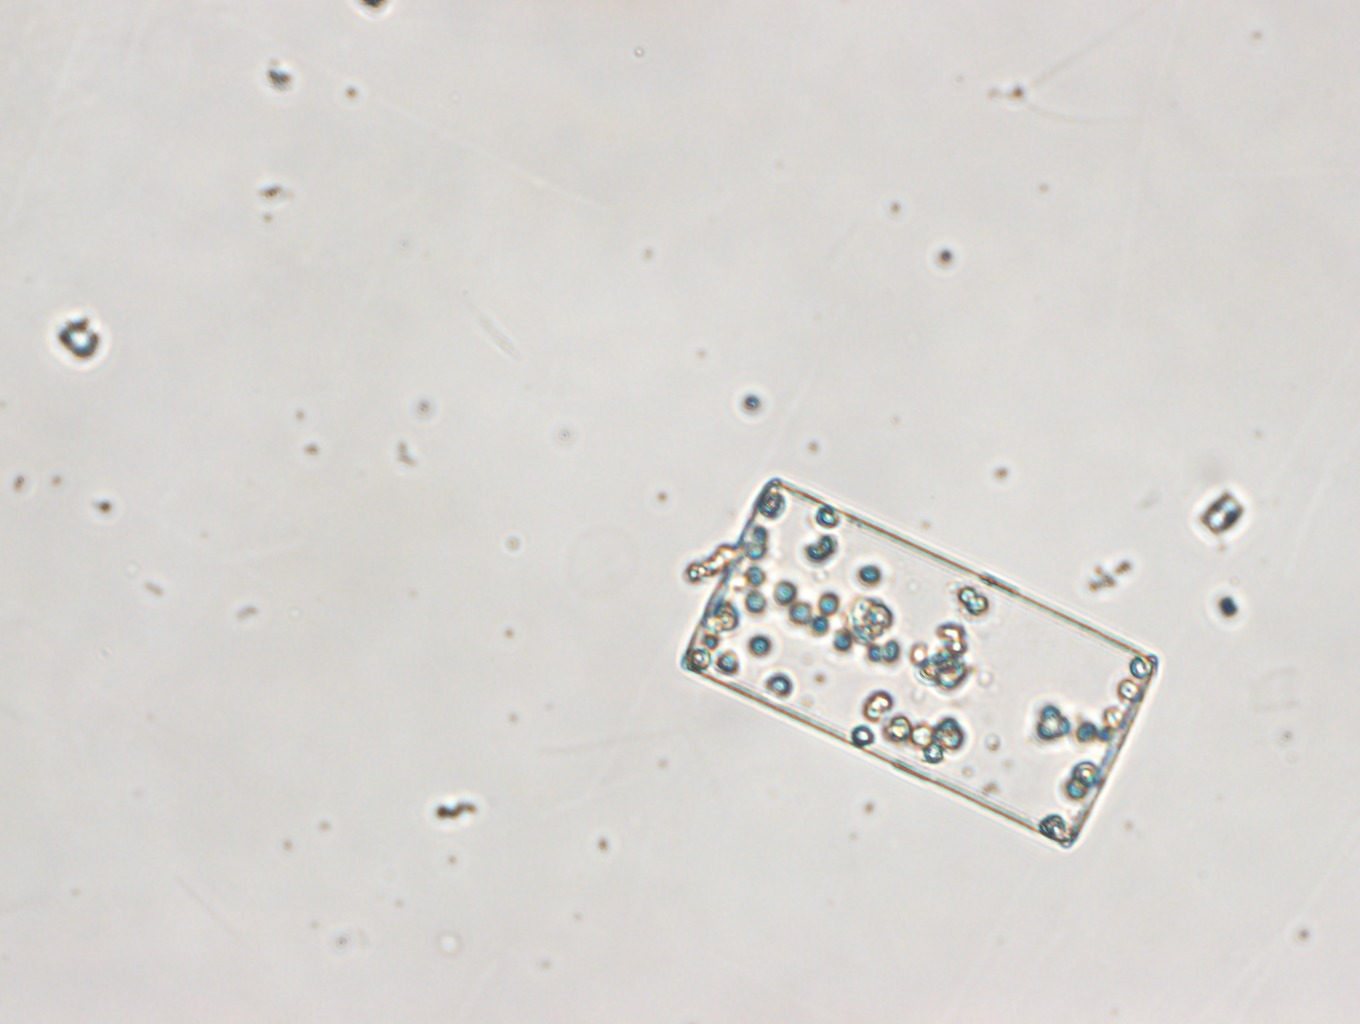guinardia flaccida: (679, 477, 1161, 852)
